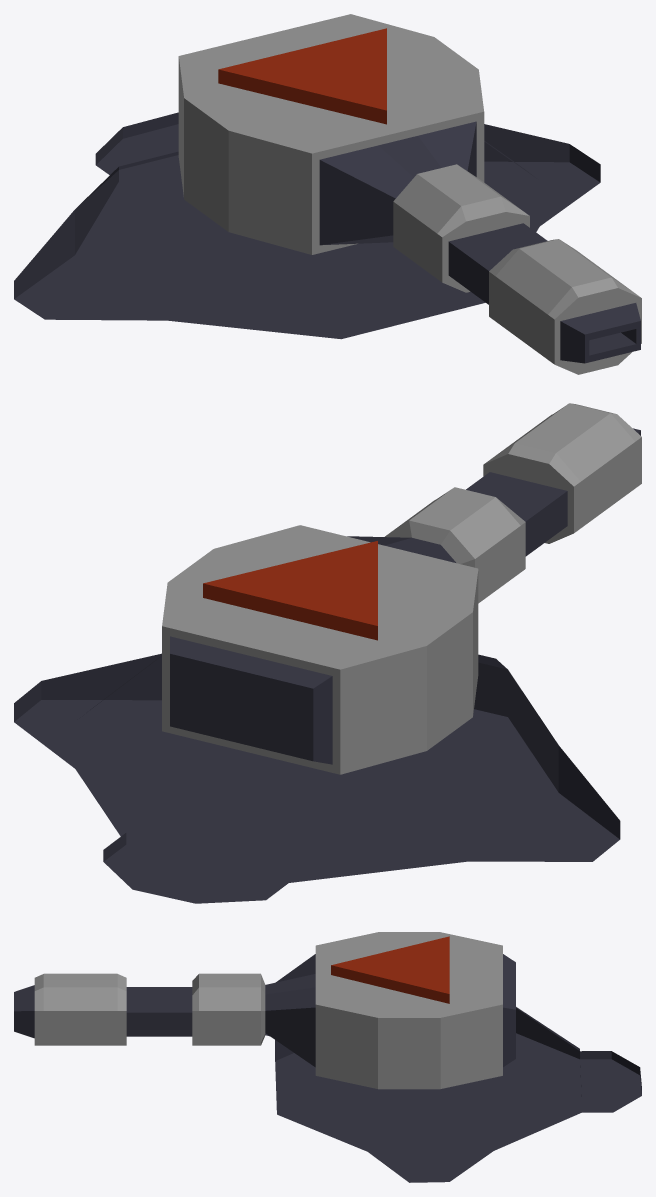
File: Turret_v01.fbx
3 renders of one model, top to bottom at view 1: azimuth 30°, elevation 25°; view 2: azimuth 150°, elevation 25°; view 3: azimuth 270°, elevation 25°, orthographic. The views are drawn at different scales.
Visible parts, largest first — view 1: Turret_Gun_v01, Turret_Base_v01; view 2: Turret_Gun_v01, Turret_Base_v01; view 3: Turret_Gun_v01, Turret_Base_v01.
Boxes of the visible parts, x1,y1,x2,y2 form: Turret_Gun_v01: (178, 14, 641, 374); Turret_Base_v01: (14, 112, 600, 339); Turret_Gun_v01: (162, 403, 641, 774); Turret_Base_v01: (14, 653, 620, 903); Turret_Gun_v01: (14, 932, 515, 1089); Turret_Base_v01: (275, 1007, 641, 1182).
Bounding box in the file's own units: 2.48 × 0.7575 × 3.44.
